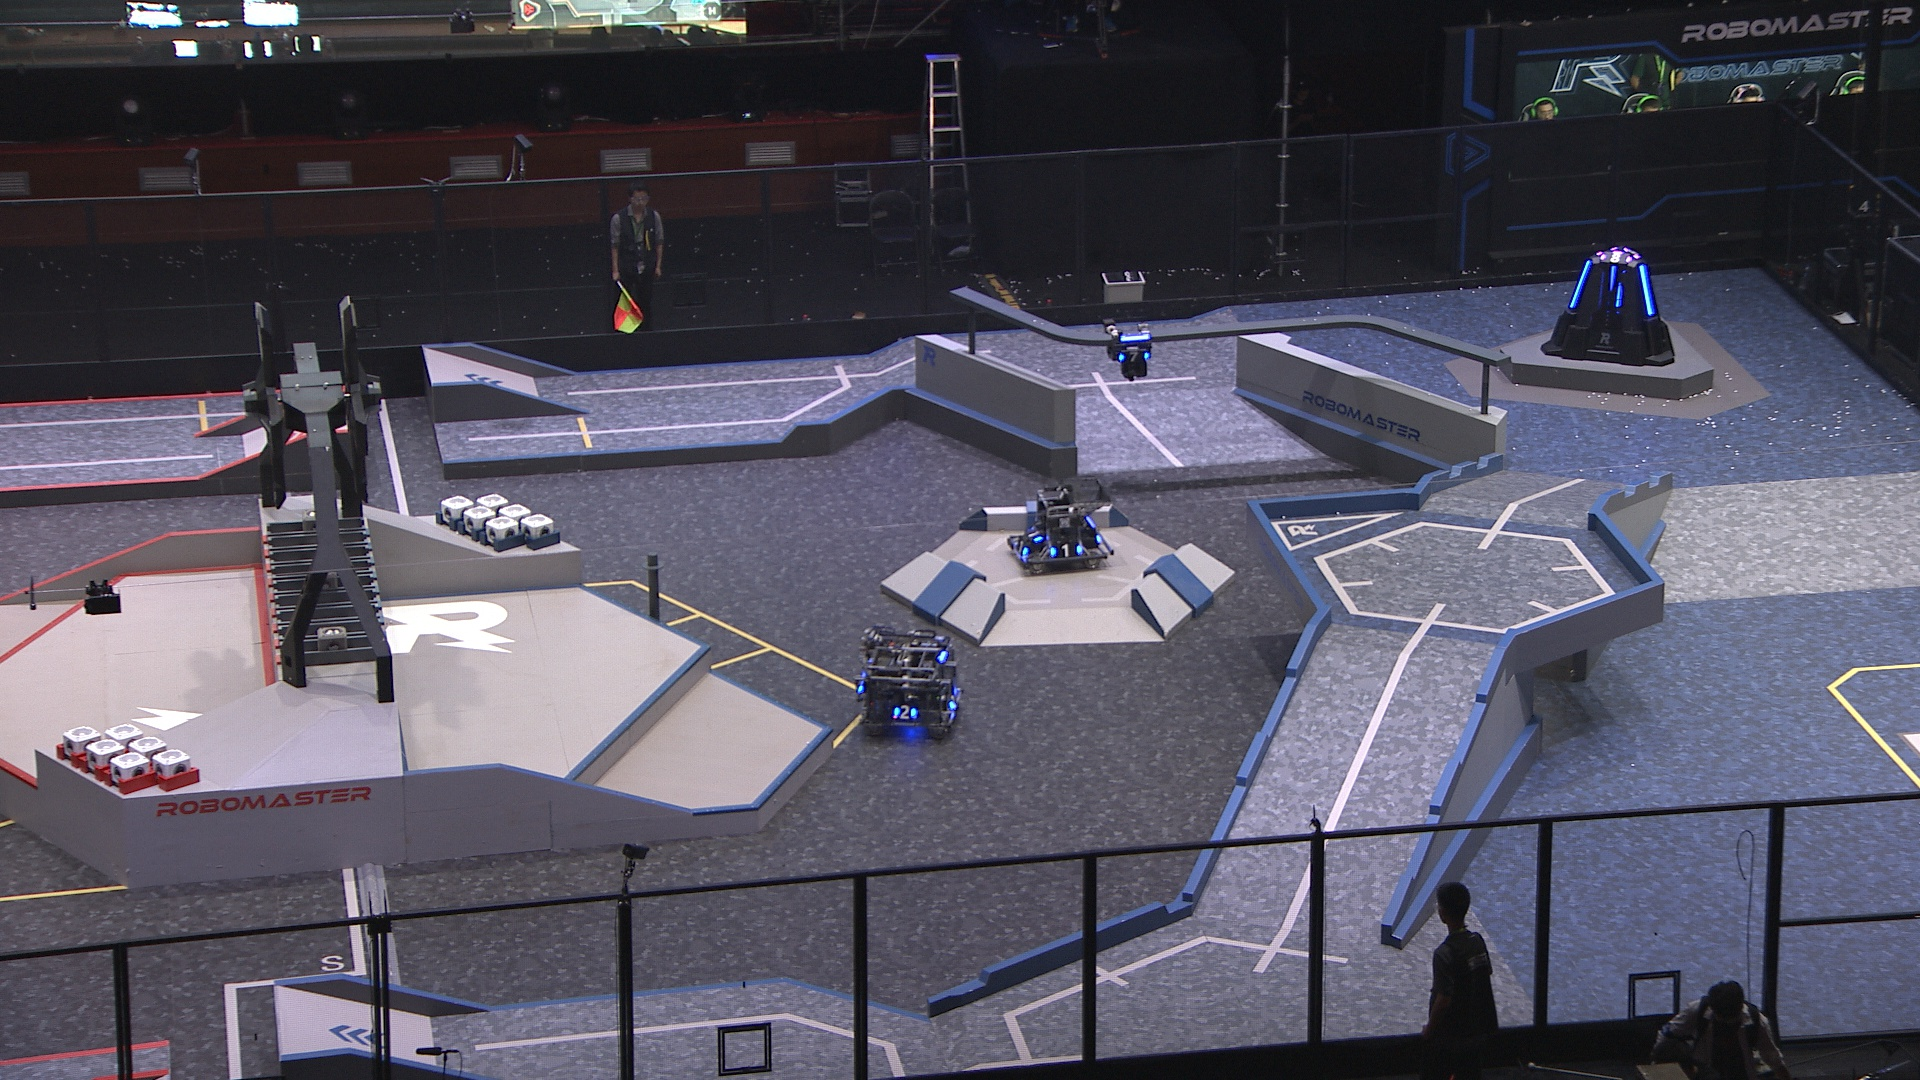armor: (1569, 258, 1592, 309), (1640, 262, 1656, 316), (1050, 542, 1083, 560), (891, 704, 920, 723), (1117, 351, 1149, 363), (1607, 264, 1618, 294), (1027, 527, 1046, 545), (1015, 541, 1030, 559), (949, 694, 959, 709)
base: (1542, 244, 1676, 367)
car: (852, 626, 965, 740), (1007, 473, 1116, 574)
ignore: (1600, 249, 1636, 264)
watcher: (1102, 319, 1154, 380)
